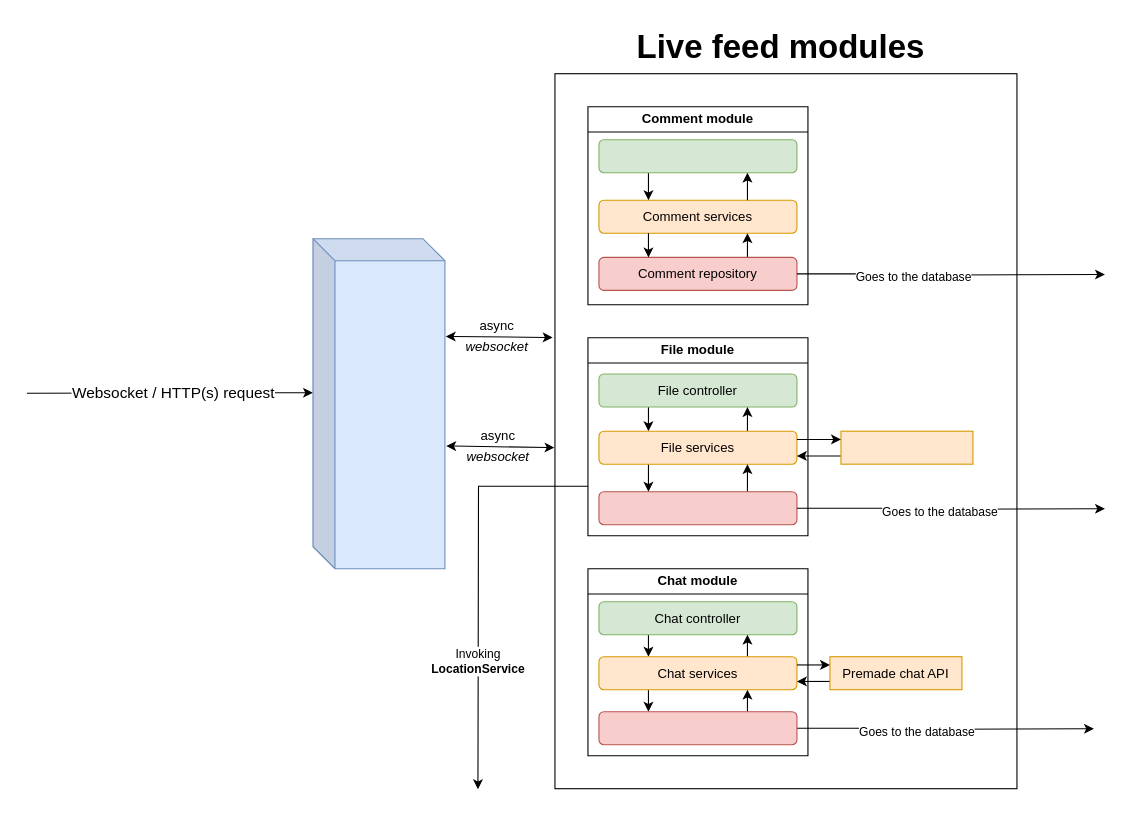
This 1133x817 diagram has some shape labels left out. The centre of each missing label's shape, as x and y in pixels:
"API GATEWAY" belongs at pixel 378 403.
"AWS S3" belongs at pixel 906 447.
"Chat repository" belongs at pixel 697 728.
"Comment controller" belongs at pixel 697 156.
"File repository" belongs at pixel 697 508.
